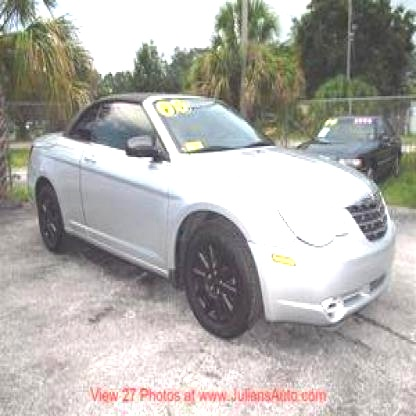Vehicle: (26, 90, 398, 346)
